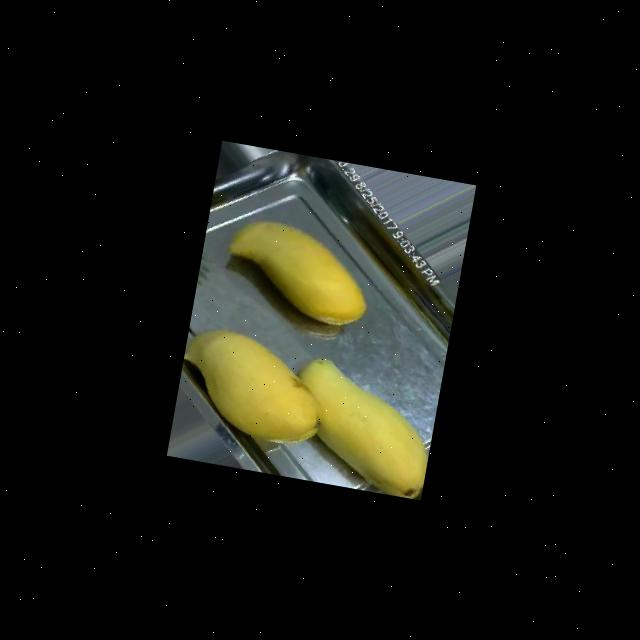Mango: (280, 355, 440, 500), (172, 324, 334, 451), (218, 215, 379, 332)
